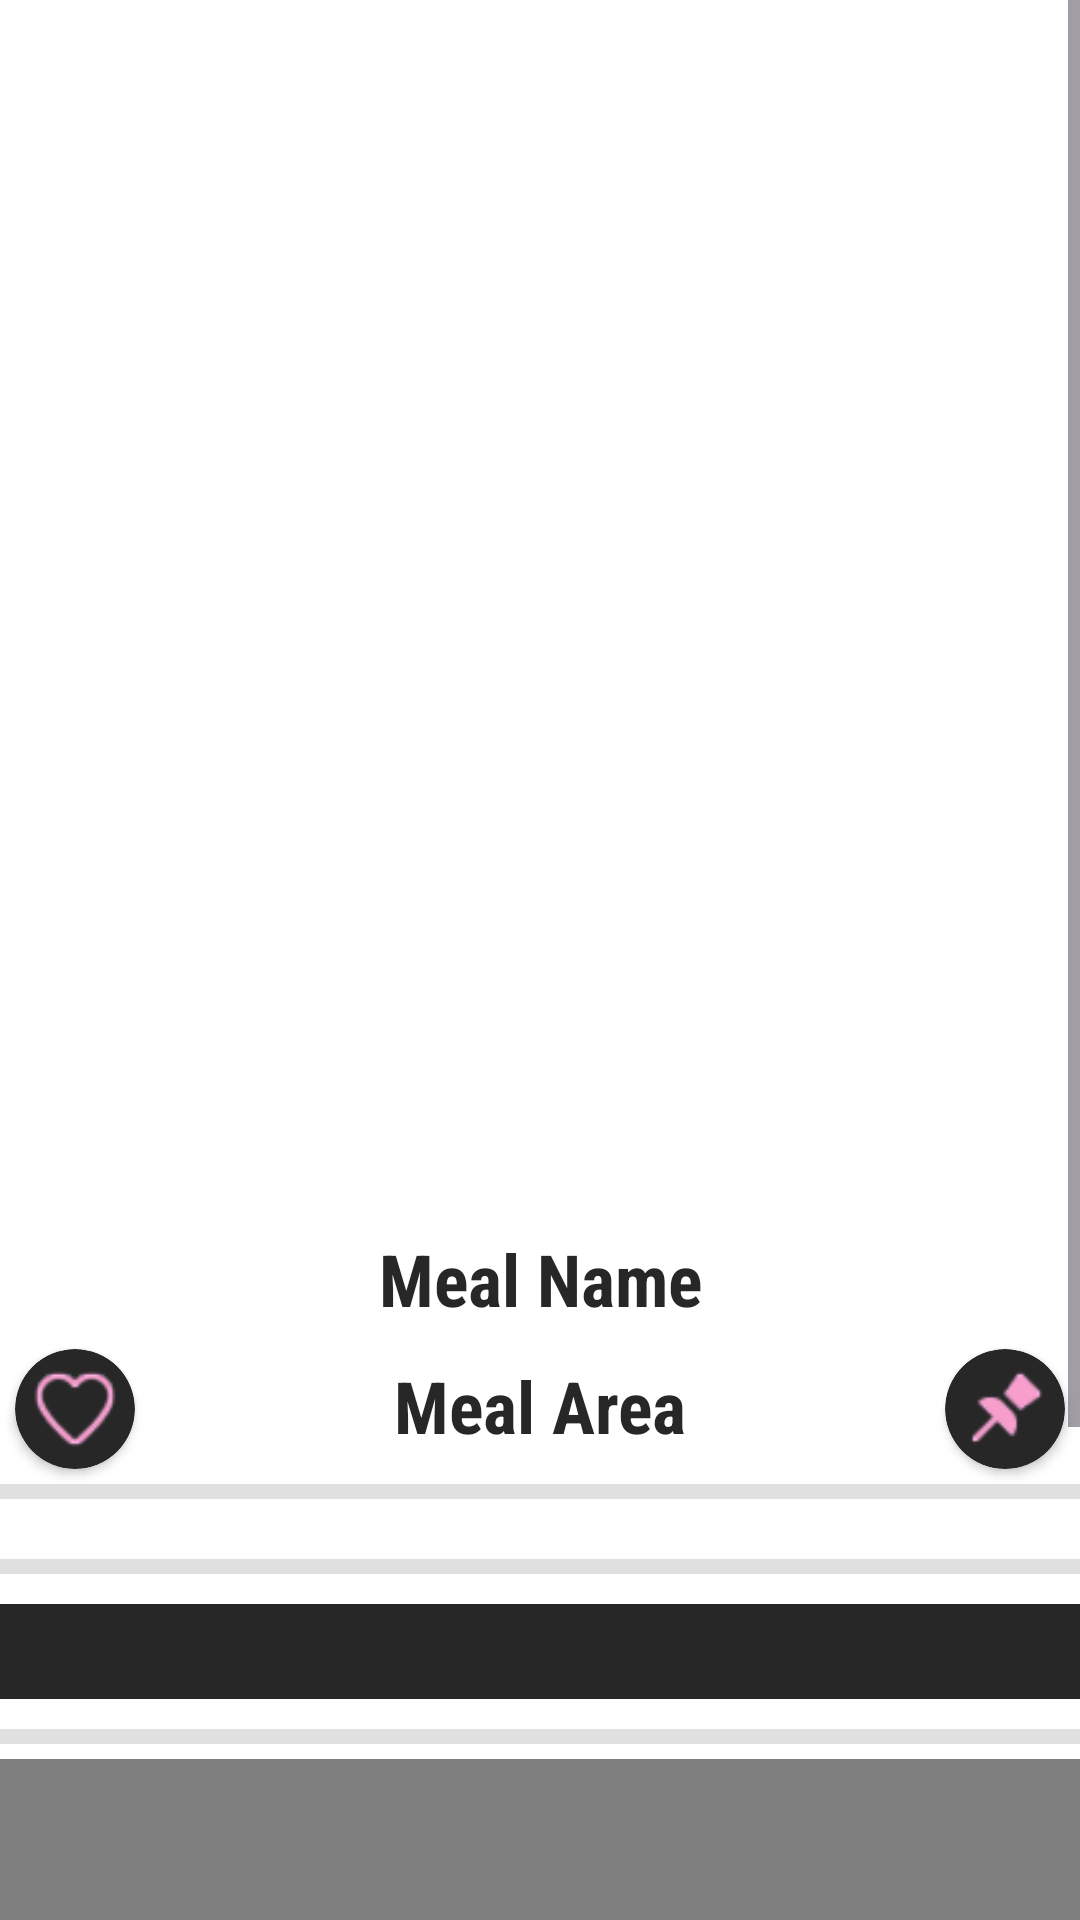

Icons on this 1080w x 1920h Android screen, each with its box as (x1, y1, x2, y2):
blank favourite: (35, 1372, 115, 1446)
